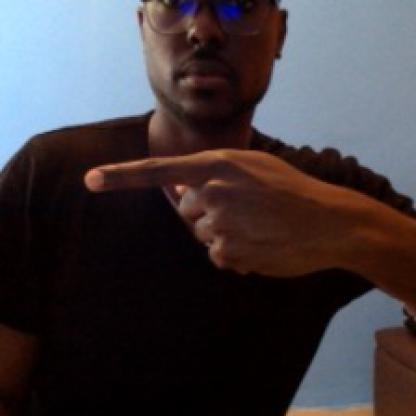TURN RIGHT: (73, 122, 414, 314)
